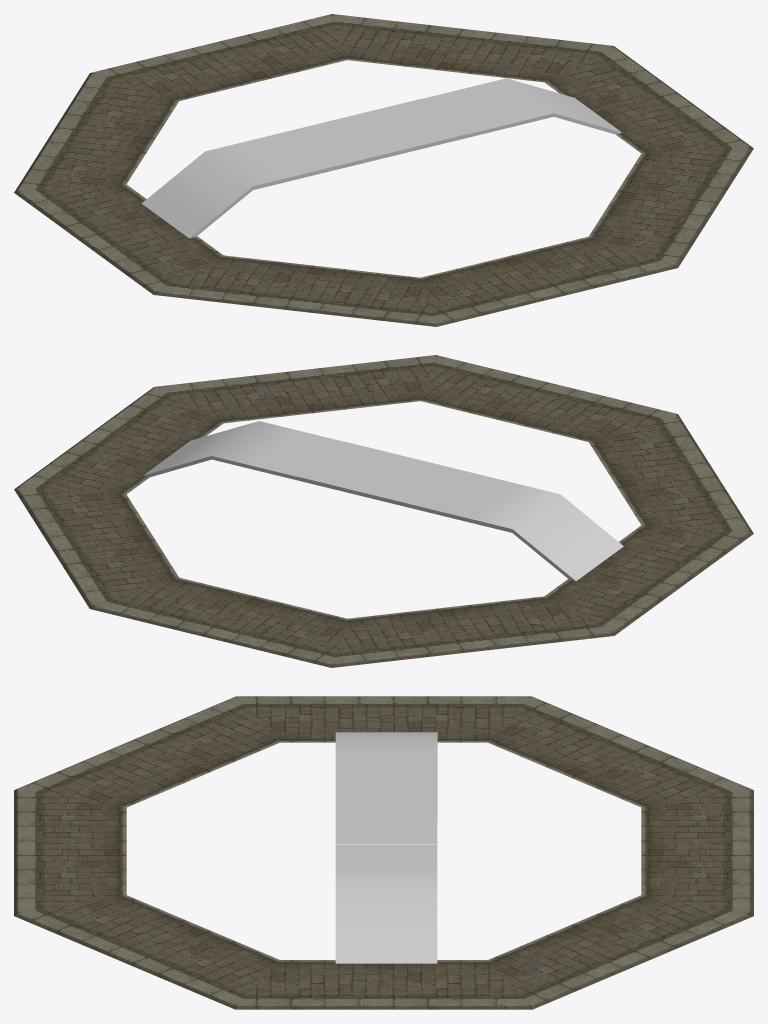
Rendered from yw_erengu_zhongxintaizi02.FBX.
The picture shows the model from 3 angles, top to bottom: view 1: azimuth 30°, elevation 25°; view 2: azimuth 150°, elevation 25°; view 3: azimuth 270°, elevation 25°; orthographic projection. The views are drawn at different scales.
Parts seen in each view (by area): view 1: yw_erengu_zhongxintaizi02; view 2: yw_erengu_zhongxintaizi02; view 3: yw_erengu_zhongxintaizi02.
Part boxes in pixels (x1,y1,x2,y2): yw_erengu_zhongxintaizi02: [14, 14, 753, 326]; yw_erengu_zhongxintaizi02: [14, 355, 753, 667]; yw_erengu_zhongxintaizi02: [14, 696, 753, 1009].
Size of the model in its own units: 3334 by 219 by 3334.
